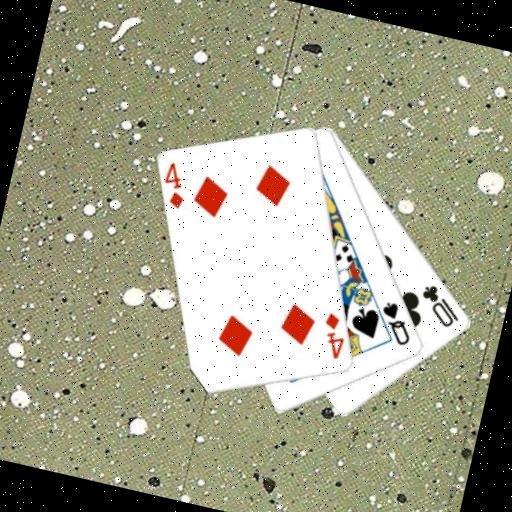10C: (412, 279, 467, 332)
4D: (156, 158, 194, 212), (315, 309, 352, 363)
QS: (372, 297, 420, 350)
